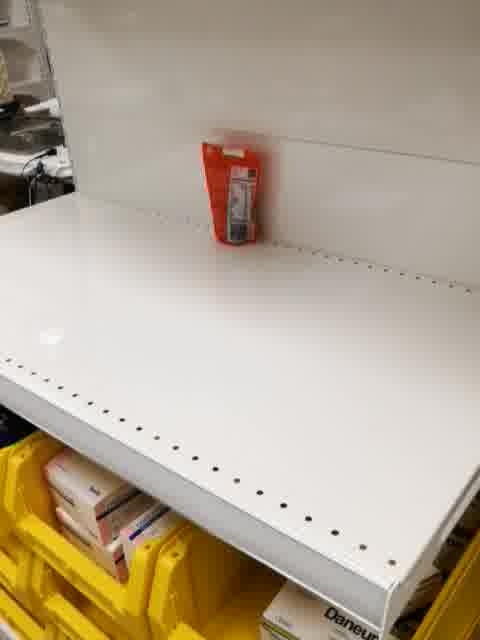whitechia: (199, 139, 274, 247)
